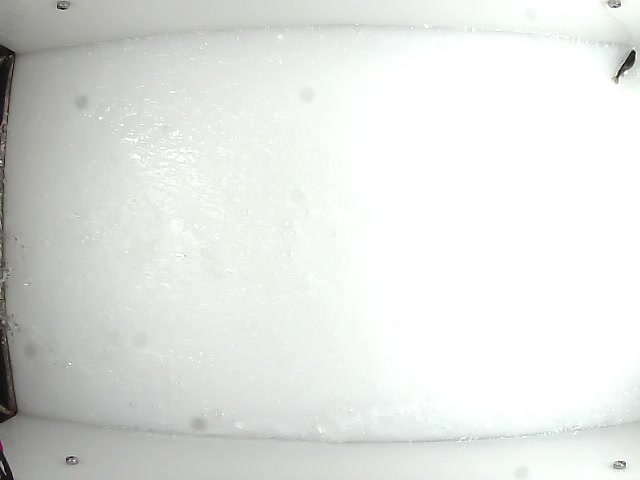fish: (610, 48, 637, 84)
